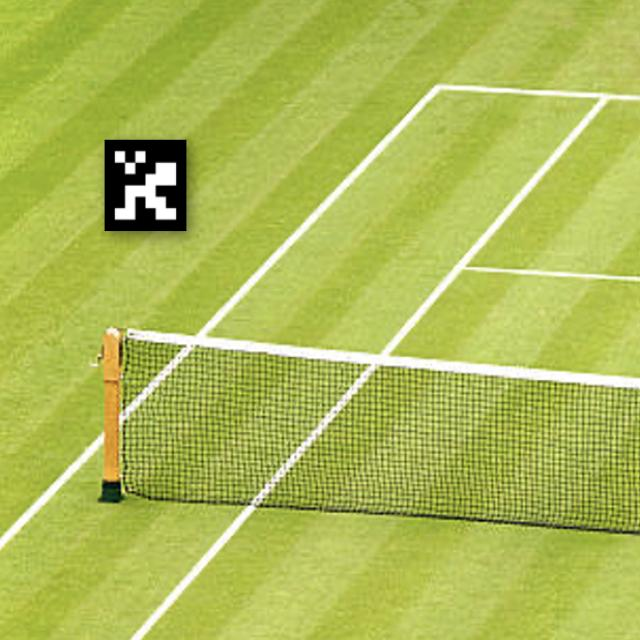marker: (96, 130, 198, 246)
